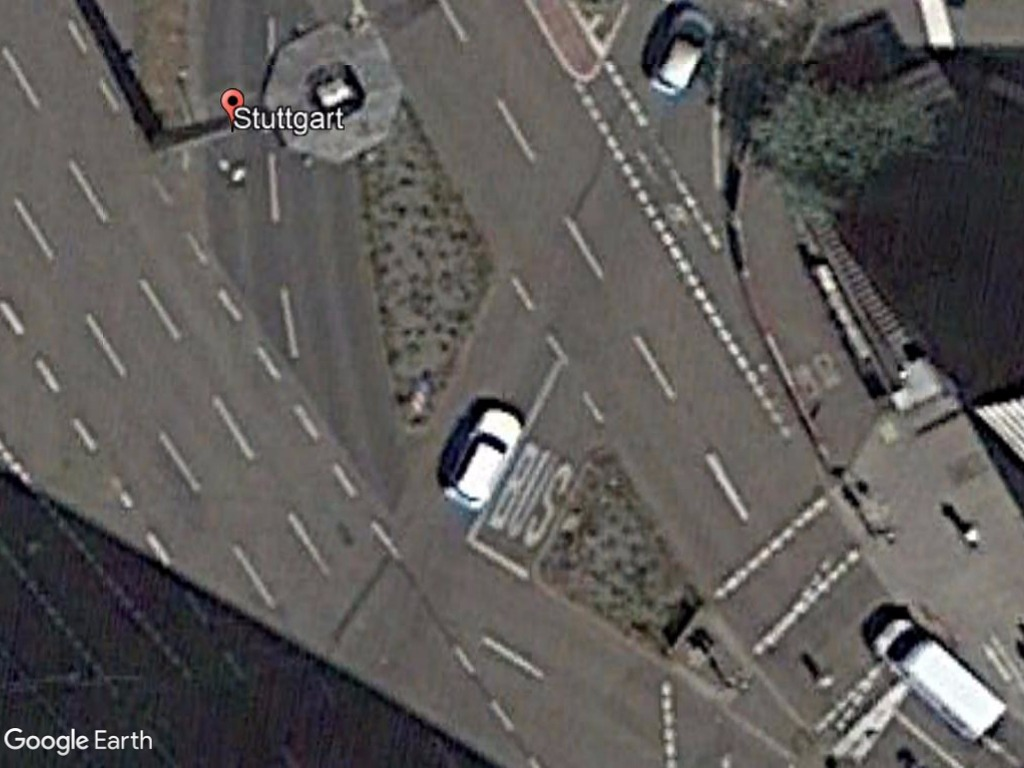car: (437, 403, 532, 519), (644, 7, 714, 100)
van: (870, 607, 1012, 754)
